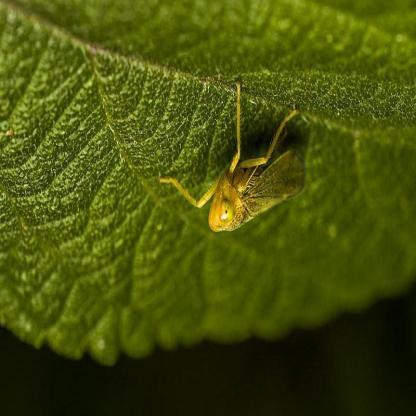green-leafhopper: (156, 79, 304, 233)
